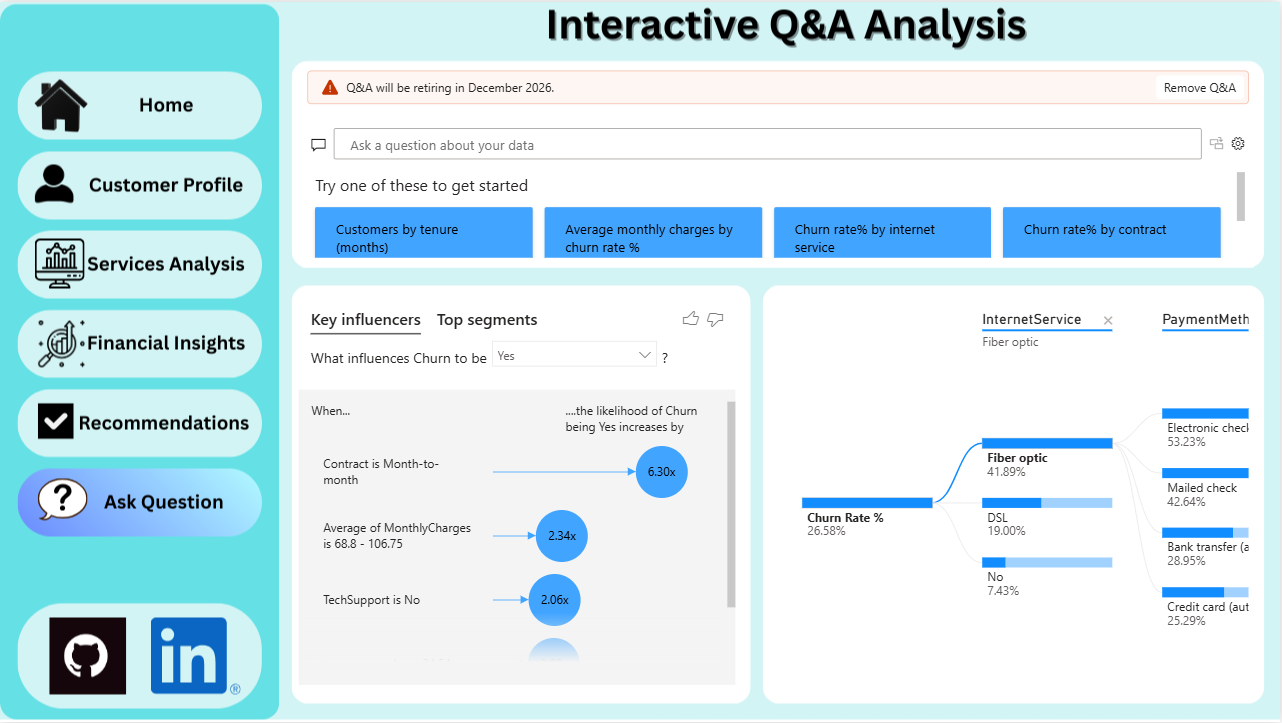

The page's visual inventory and layout, read from the dashboard file:
{"tool":"powerbi","page":{"name":"Q&A","canvas":[1280,720],"ordinal":5},"visuals":[{"type":"qnaVisual","box":[302.5,63.8,951.2,201.2],"z":0},{"type":"keyDriversVisual","fields":{"Target":["telecom_churn_project churn_data.Churn"],"ExplainBy":["telecom_churn_project churn_data.Contract","Avg(telecom_churn_project churn_data.MonthlyCharges)","telecom_churn_project churn_data.tenure","telecom_churn_project churn_data.TechSupport"]},"box":[293.8,292.5,446.2,395],"z":1000},{"type":"decompositionTreeVisual","fields":{"Analyze":["telecom_churn_project churn_data.Churn Rate %"],"ExplainBy":["telecom_churn_project churn_data.InternetService","telecom_churn_project churn_data.PaymentMethod","telecom_churn_project churn_data.Contract"]},"box":[772.5,292.5,481.2,395],"z":2000},{"type":"actionButton","box":[32.5,397.5,217.5,52.5],"z":3000},{"type":"actionButton","box":[32.5,315,217.5,55],"z":4000},{"type":"actionButton","box":[32.5,236.2,217.5,56.2],"z":5000},{"type":"actionButton","box":[32.5,153.8,208.8,58.8],"z":6000},{"type":"actionButton","box":[32.5,76.2,208.8,57.5],"z":7000},{"type":"actionButton","box":[150,612.5,90,83.8],"z":8000},{"type":"actionButton","box":[46.2,612.5,81.2,83.8],"z":9000}]}

Visuals, with their boxes on the page's 1280x720 design canvas (x1, y1, x2, y2). These are canvas units, not pixel positions in the 1282x723 screenshot, which may show the page scaled, cropped or inside an application window:
qnaVisual: 302,64,1254,265
keyDriversVisual - telecom_churn_project churn_data.Churn x telecom_churn_project churn_data.Contract: 294,292,740,688
decompositionTreeVisual - telecom_churn_project churn_data.Churn Rate % x telecom_churn_project churn_data.InternetService: 772,292,1254,688
actionButton: 32,398,250,450
actionButton: 32,315,250,370
actionButton: 32,236,250,292
actionButton: 32,154,241,213
actionButton: 32,76,241,134
actionButton: 150,612,240,696
actionButton: 46,612,127,696
